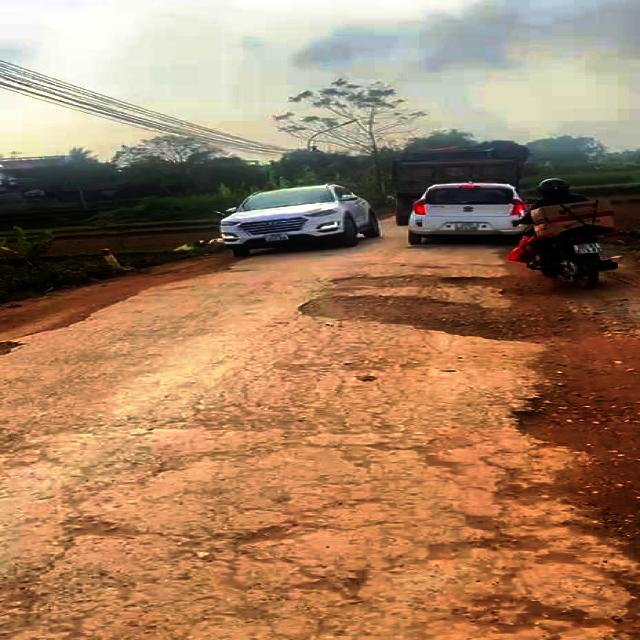pothole: (299, 272, 560, 346), (505, 465, 640, 543), (510, 385, 640, 452), (0, 338, 26, 358)
